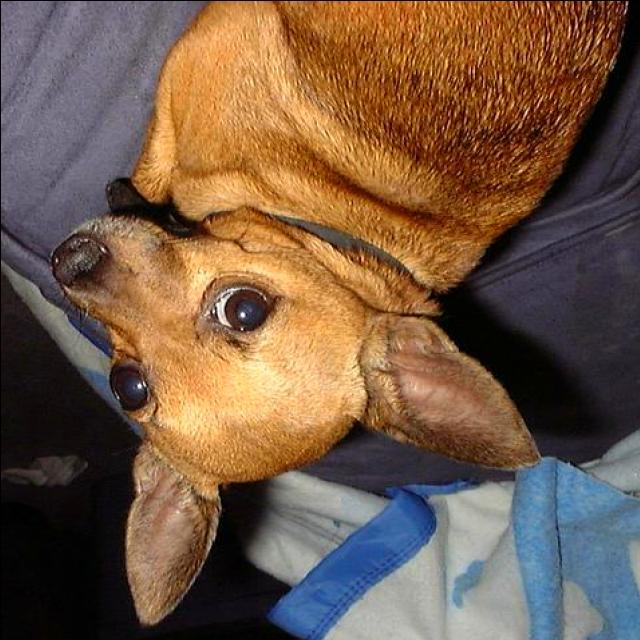chihuahua: (51, 2, 626, 626)
